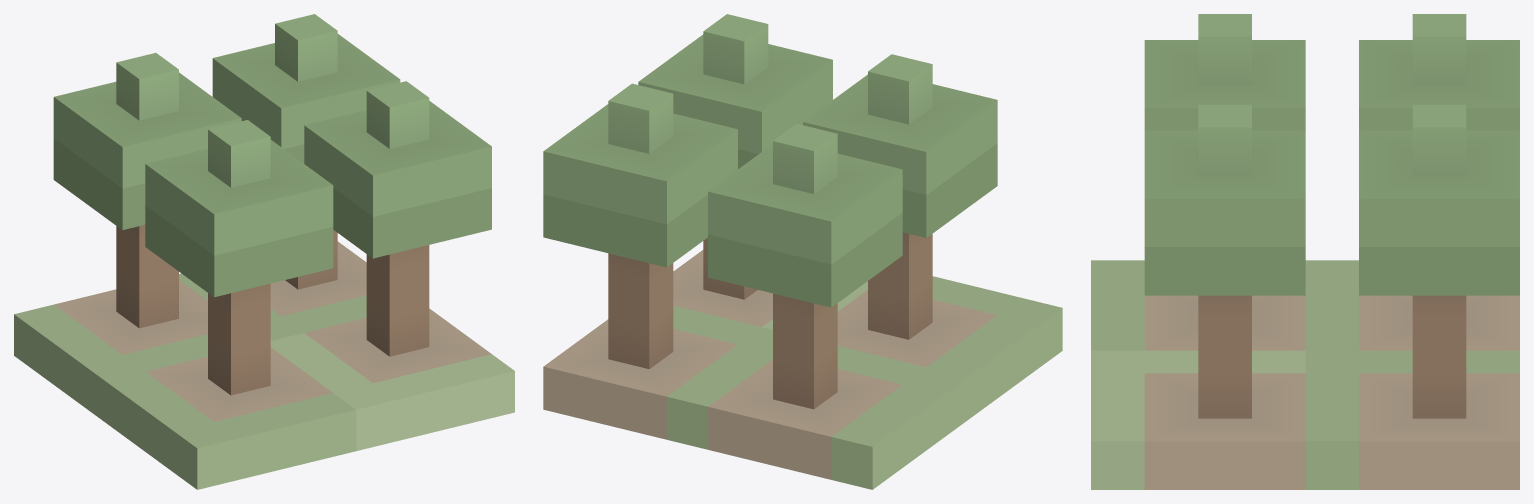
Rendered from tree_plot.glb.
The picture shows the model from 3 angles, left to right: view 1: azimuth 30°, elevation 25°; view 2: azimuth 150°, elevation 25°; view 3: azimuth 270°, elevation 25°; orthographic projection. The views are drawn at different scales.
Parts seen in each view (by area): view 1: tree_plot; view 2: tree_plot; view 3: tree_plot.
Part boxes in pixels (x1,y1,x2,y2): tree_plot: (14,14,514,489); tree_plot: (543,14,1062,489); tree_plot: (1091,14,1519,489).
Size of the model in its own units: 1 by 0.875 by 1.
